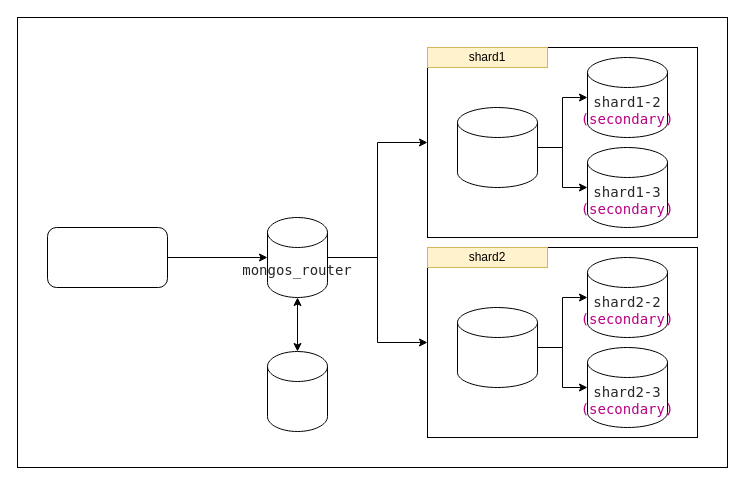
Some shapes in this 745 by 485 pixel diagram are drawn without their labels. Here are the shapes that lost their labels. From the top down, the centre of each, then its label:
point (497, 147): shard1-1 (primary)
point (107, 257): pymongo-api
point (497, 347): shard2-1 (primary)
point (297, 391): configSrv
